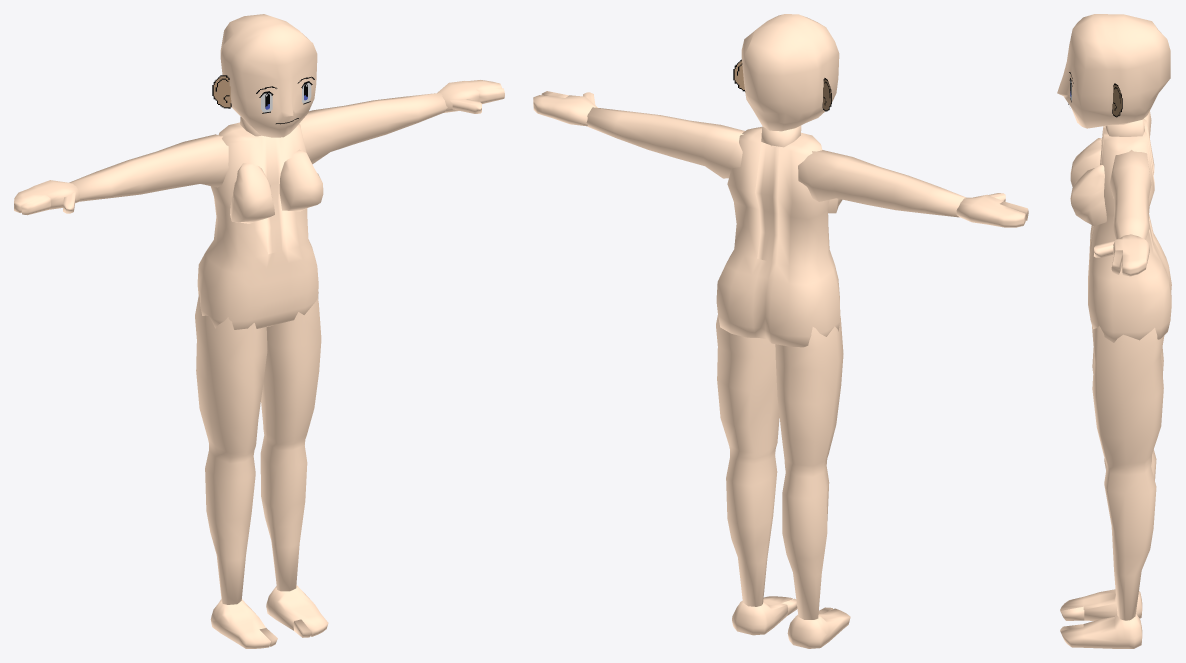
File: Girl2.glb
The picture shows the model from 3 angles, left to right: view 1: azimuth 30°, elevation 25°; view 2: azimuth 150°, elevation 25°; view 3: azimuth 270°, elevation 25°; orthographic projection.
Parts seen in each view (by area): view 1: body, leg.l, leg.r, head, arm.r, arm.l, chest.r, chest.l, foot.r, foot.l, hand.r, hand.l; view 2: body, leg.l, leg.r, head, arm.r, arm.l, foot.r, foot.l, hand.r, hand.l; view 3: leg.r, head, body, arm.l, foot.l, chest.l, foot.r, hand.l, chest.r, neck, Ear.001, footToe.r (+3 smaller).
Boxes of the visible parts, left/top/right/bottom form: body: left=197, top=122, right=318, bottom=329; leg.l: left=195, top=294, right=267, bottom=604; leg.r: left=260, top=298, right=321, bottom=591; head: left=220, top=14, right=317, bottom=137; arm.r: left=69, top=134, right=228, bottom=201; arm.l: left=299, top=93, right=447, bottom=164; chest.r: left=230, top=163, right=274, bottom=223; chest.l: left=279, top=149, right=323, bottom=211; foot.r: left=210, top=599, right=270, bottom=648; foot.l: left=266, top=585, right=328, bottom=636; hand.r: left=14, top=180, right=79, bottom=212; hand.l: left=437, top=80, right=501, bottom=112; body: left=716, top=127, right=840, bottom=347; leg.l: left=775, top=316, right=843, bottom=619; leg.r: left=716, top=315, right=779, bottom=606; head: left=741, top=14, right=839, bottom=131; arm.r: left=798, top=150, right=965, bottom=217; arm.l: left=586, top=107, right=744, bottom=178; foot.r: left=787, top=608, right=850, bottom=648; foot.l: left=732, top=596, right=792, bottom=635; hand.r: left=956, top=194, right=1025, bottom=227; hand.l: left=533, top=95, right=597, bottom=126; leg.r: left=1092, top=326, right=1164, bottom=620; head: left=1057, top=14, right=1170, bottom=128; body: left=1088, top=119, right=1171, bottom=342; arm.l: left=1109, top=150, right=1151, bottom=239; foot.l: left=1060, top=613, right=1142, bottom=648; chest.l: left=1070, top=165, right=1106, bottom=226; foot.r: left=1060, top=589, right=1142, bottom=620; hand.l: left=1113, top=234, right=1149, bottom=276; chest.r: left=1070, top=138, right=1101, bottom=187; neck: left=1105, top=119, right=1144, bottom=136; Ear.001: left=1112, top=83, right=1122, bottom=117; footToe.r: left=1060, top=606, right=1084, bottom=620.
Size of the model in its own units: 6.06 by 7.18 by 1.23.
10 materials, 4 textured.
